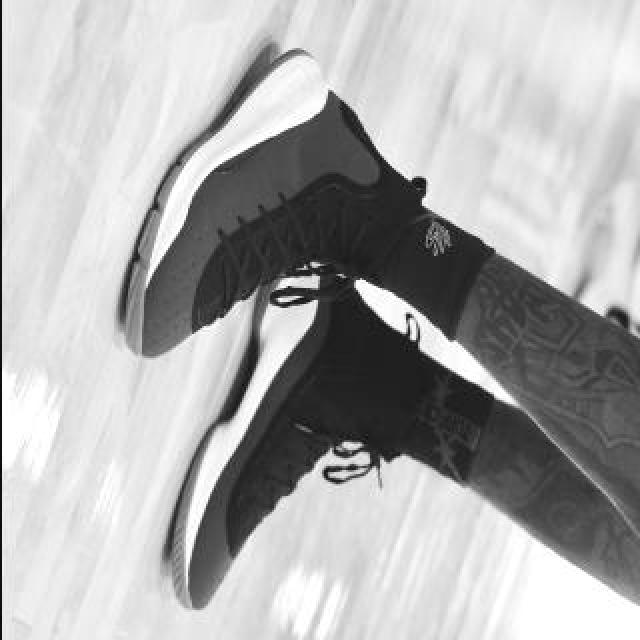shoe: (126, 54, 410, 358), (172, 267, 410, 607)
